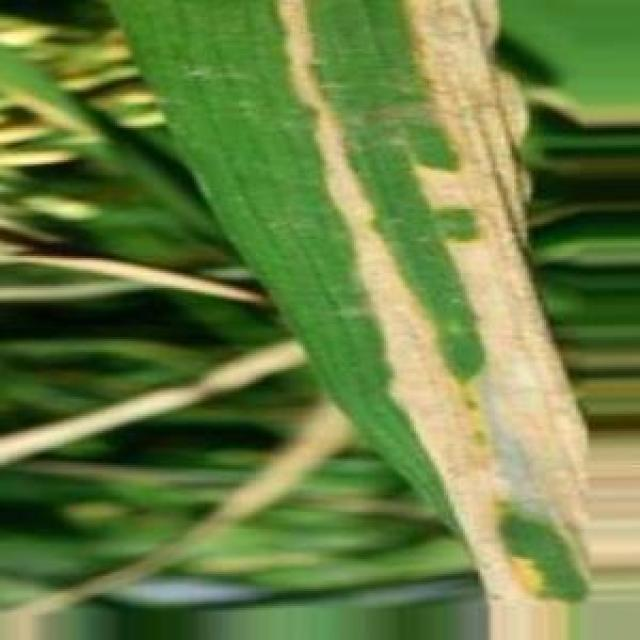Bacterial_Leaf_Blight: (279, 0, 566, 639), (409, 0, 588, 541)
